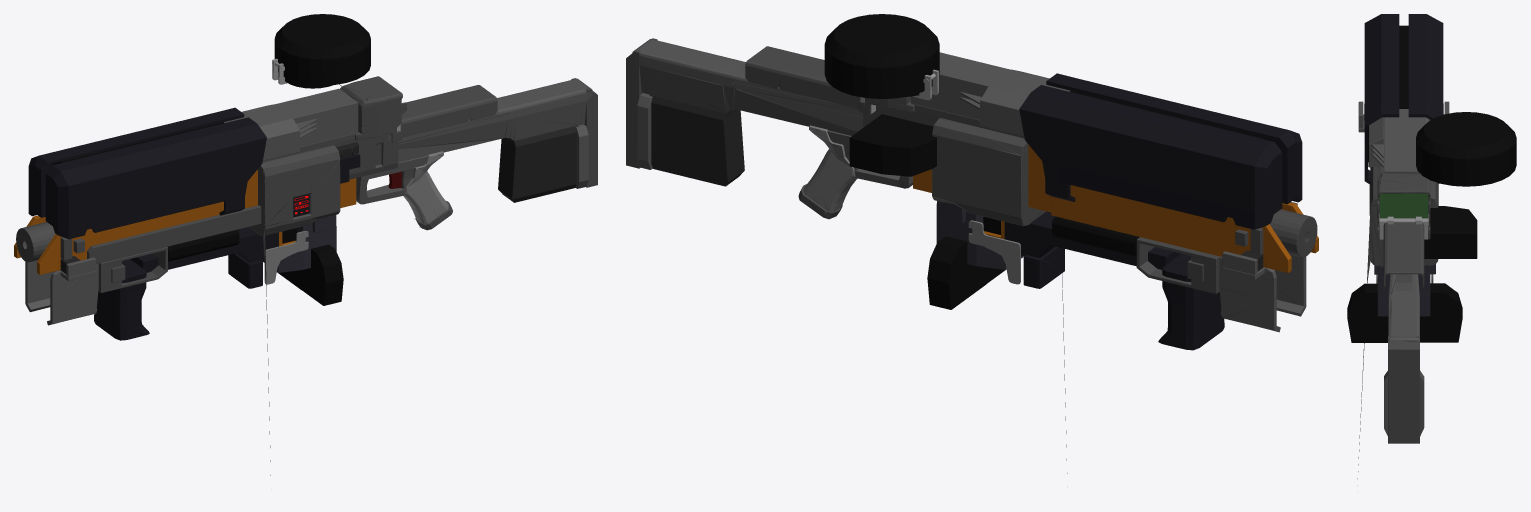
The model's file is Blaster.fbx.
3 views of the same model, side by side, from view 1: azimuth 30°, elevation 25°; view 2: azimuth 150°, elevation 25°; view 3: azimuth 270°, elevation 25° (orthographic). The views are drawn at different scales.
Parts seen in each view (by area): view 1: Box017, Box005, Box023, Box001, Box014, Cylinder002, Box180, Box024, Box036, Box013, Box029, Box027 (+14 smaller); view 2: Box017, Box005, Box023, Box028, Box001, Cylinder002, Box070, Box036, Box014, Box029, Cylinder001, Box024 (+13 smaller); view 3: Box017, Cylinder002, Box021, Cylinder001, Box070, Box024, Box189, Box014, Box173, Box005, Box023, Box013 (+8 smaller).
Part boxes in pixels (x1=…): Box017: x1=28, y1=107, x2=266, y2=239; Box005: x1=398, y1=78, x2=592, y2=162; Box023: x1=249, y1=145, x2=340, y2=475; Box001: x1=498, y1=125, x2=577, y2=202; Box014: x1=224, y1=88, x2=358, y2=146; Cylinder002: x1=274, y1=14, x2=370, y2=58; Box180: x1=87, y1=205, x2=261, y2=263; Box024: x1=400, y1=85, x2=497, y2=137; Box036: x1=25, y1=260, x2=98, y2=323; Box013: x1=339, y1=76, x2=406, y2=142; Box029: x1=94, y1=259, x2=149, y2=340; Box027: x1=37, y1=201, x2=223, y2=274; Box017: x1=1019, y1=73, x2=1302, y2=229; Box005: x1=632, y1=39, x2=863, y2=135; Box023: x1=932, y1=118, x2=1067, y2=473; Box028: x1=1051, y1=185, x2=1291, y2=272; Box001: x1=649, y1=95, x2=744, y2=186; Cylinder002: x1=825, y1=14, x2=939, y2=67; Box070: x1=849, y1=114, x2=936, y2=176; Box036: x1=1219, y1=254, x2=1306, y2=330; Box014: x1=911, y1=52, x2=1070, y2=119; Box029: x1=1158, y1=253, x2=1224, y2=350; Cylinder001: x1=824, y1=43, x2=939, y2=98; Box024: x1=745, y1=46, x2=860, y2=108; Box017: x1=1364, y1=14, x2=1443, y2=184; Cylinder002: x1=1416, y1=112, x2=1516, y2=158; Box021: x1=1388, y1=336, x2=1419, y2=443; Cylinder001: x1=1416, y1=138, x2=1516, y2=186; Box070: x1=1424, y1=206, x2=1477, y2=258; Box024: x1=1383, y1=222, x2=1424, y2=288; Box189: x1=1420, y1=283, x2=1462, y2=342; Box014: x1=1384, y1=109, x2=1423, y2=172; Box173: x1=1347, y1=283, x2=1387, y2=342; Box005: x1=1388, y1=274, x2=1419, y2=341; Box023: x1=1357, y1=167, x2=1438, y2=485; Box013: x1=1377, y1=172, x2=1430, y2=239.
Size of the model in its own units: 1757 by 1197 by 437.
